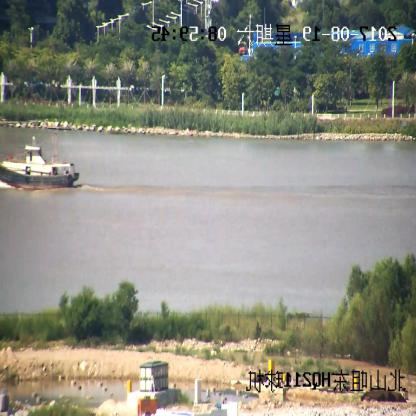Fishing Boat: (0, 133, 78, 192)
